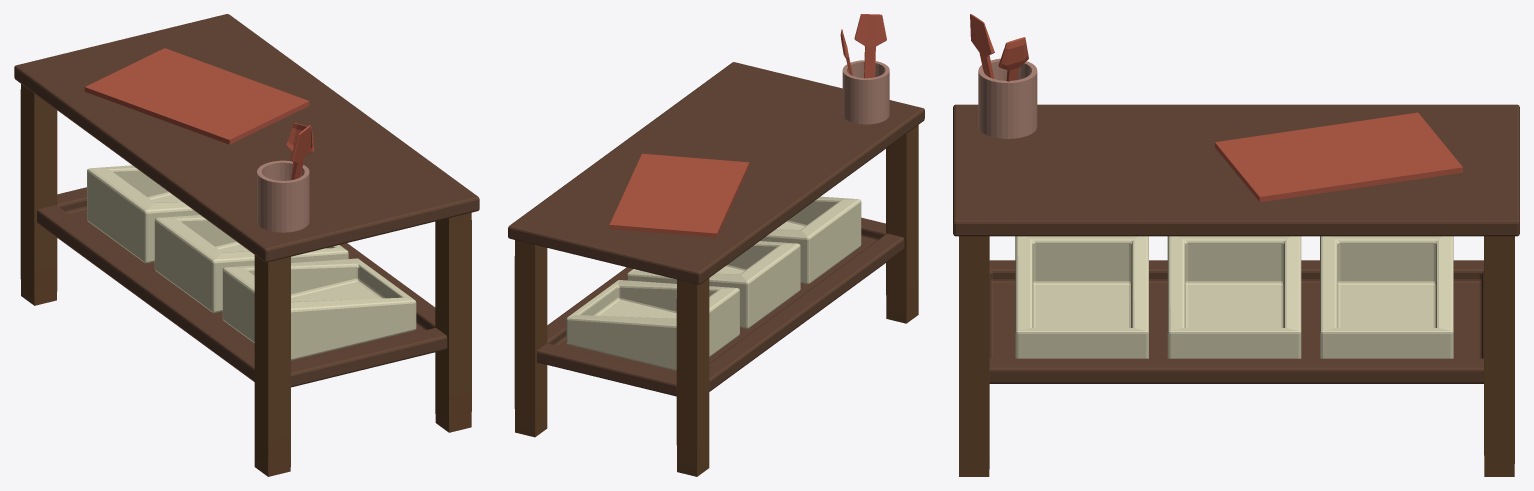
Rendered from table_2x1.fbx.
3 renders of one model, left to right at view 1: azimuth 30°, elevation 25°; view 2: azimuth 150°, elevation 25°; view 3: azimuth 270°, elevation 25°, orthographic. The views are drawn at different scales.
Parts seen in each view (by area): view 1: masa_2x1; view 2: masa_2x1; view 3: masa_2x1.
Boxes of the visible parts, bbox=[...] form: masa_2x1: bbox=[14, 14, 479, 476]; masa_2x1: bbox=[508, 14, 924, 476]; masa_2x1: bbox=[953, 14, 1519, 476].
Bounding box in the file's own units: 98.49 × 145 × 200.
